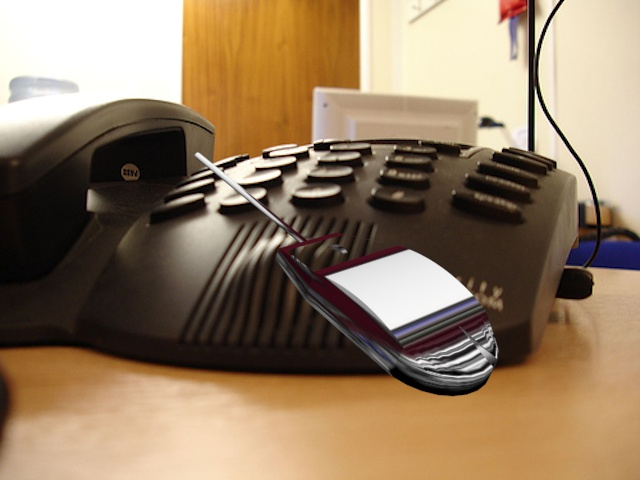mouse: (193, 153, 504, 400)
